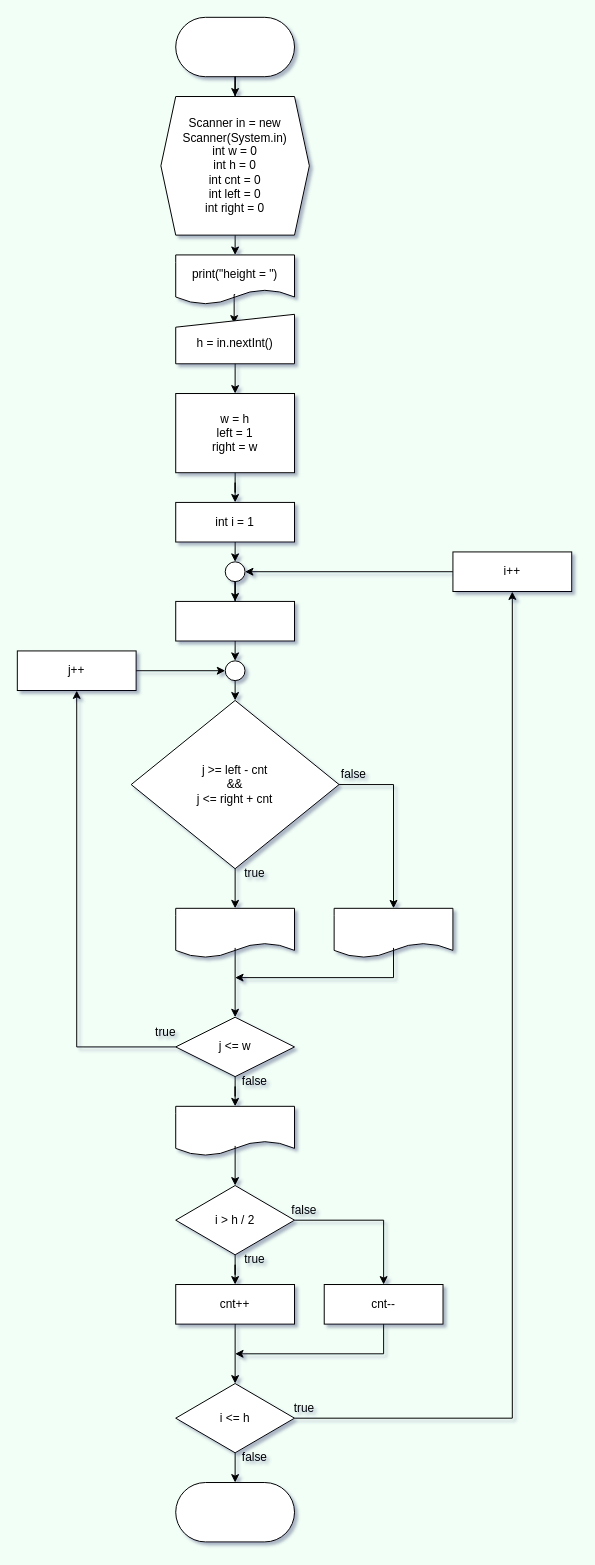
Image size: 595x1565. Some labels were removed from this diagram. Here are the shapes that lost their labels. From the top down, the centre of each, then its label:
[235,46]: START
[235,620]: int j = 1
[235,932]: print("*")
[393,932]: print(" ")
[235,1130]: println()
[235,1512]: END
